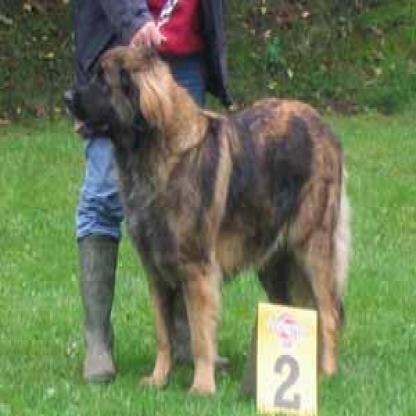Leonberg: (61, 35, 352, 398)
